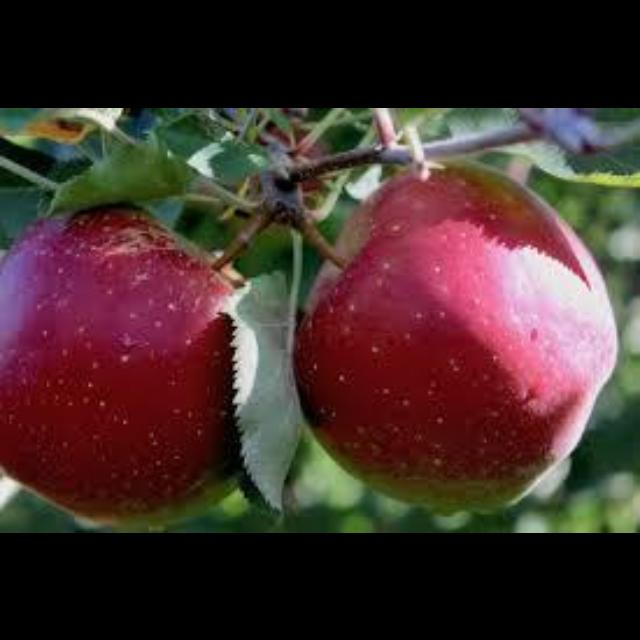apple: (293, 158, 617, 512), (0, 205, 237, 524)
